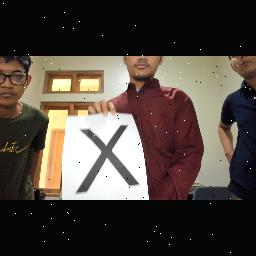x: (76, 122, 140, 196)
